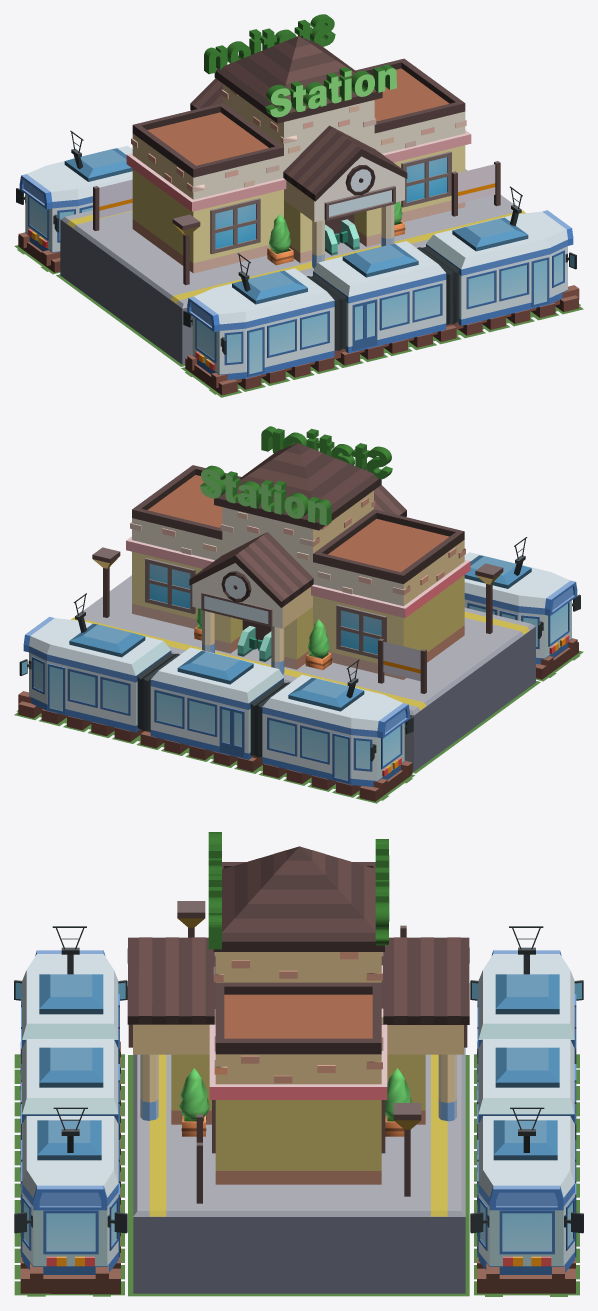
Rendered from bg_poi_008.fbx.
3 views of the same model, one above another, from view 1: azimuth 30°, elevation 25°; view 2: azimuth 150°, elevation 25°; view 3: azimuth 270°, elevation 25° (orthographic). The views are drawn at different scales.
Visible parts, largest first — view 1: polySurface23; view 2: polySurface23; view 3: polySurface23.
Part boxes in pixels (left/top/right/bottom): polySurface23: left=14, top=14, right=583, bottom=397; polySurface23: left=14, top=426, right=583, bottom=803; polySurface23: left=14, top=832, right=583, bottom=1296.
Size of the model in its own units: 4497 by 2831 by 4442.
